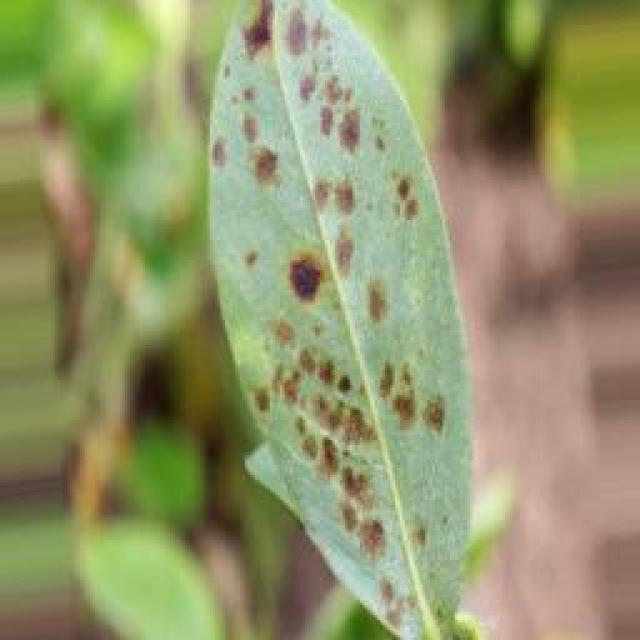Whitefly: (158, 0, 503, 634)
